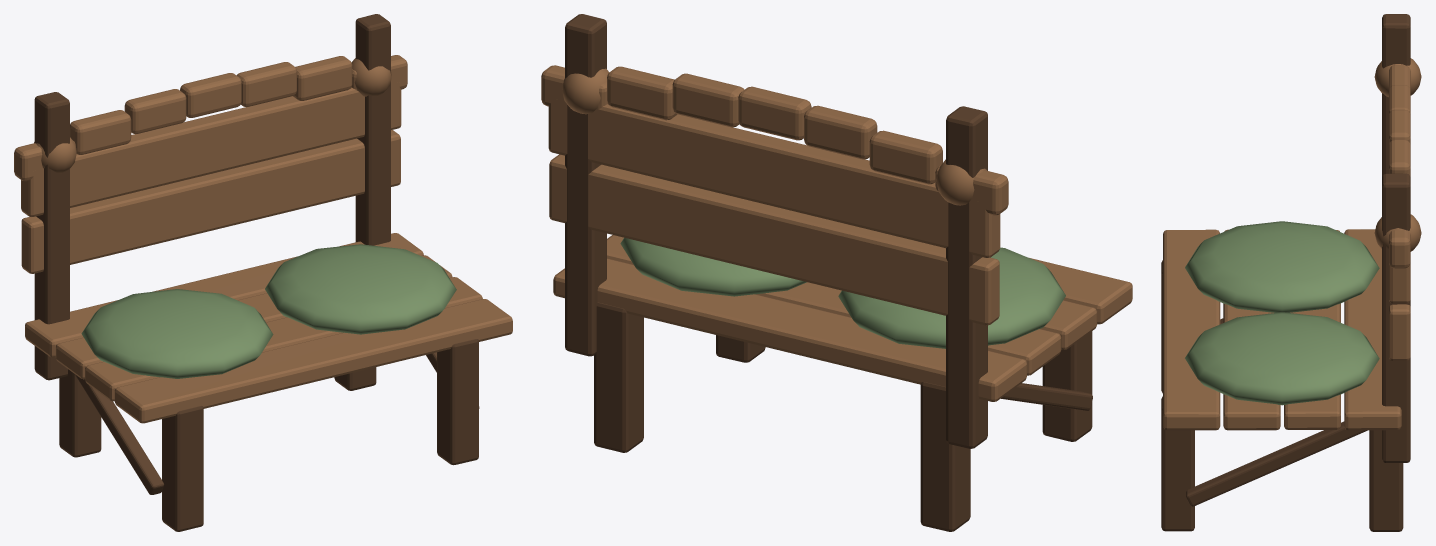
The model's file is SM_HH_Q3_Bench.fbx.
The picture shows the model from 3 angles, left to right: view 1: azimuth 30°, elevation 25°; view 2: azimuth 150°, elevation 25°; view 3: azimuth 270°, elevation 25°; orthographic projection. The views are drawn at different scales.
Parts seen in each view (by area): view 1: HH_Q3_Bench; view 2: HH_Q3_Bench; view 3: HH_Q3_Bench.
Boxes of the visible parts, x1,y1,x2,y2 form: HH_Q3_Bench: (14, 14, 512, 531); HH_Q3_Bench: (541, 14, 1132, 531); HH_Q3_Bench: (1161, 14, 1421, 531).
Size of the model in its own units: 0.775 by 1.35 by 1.18.
